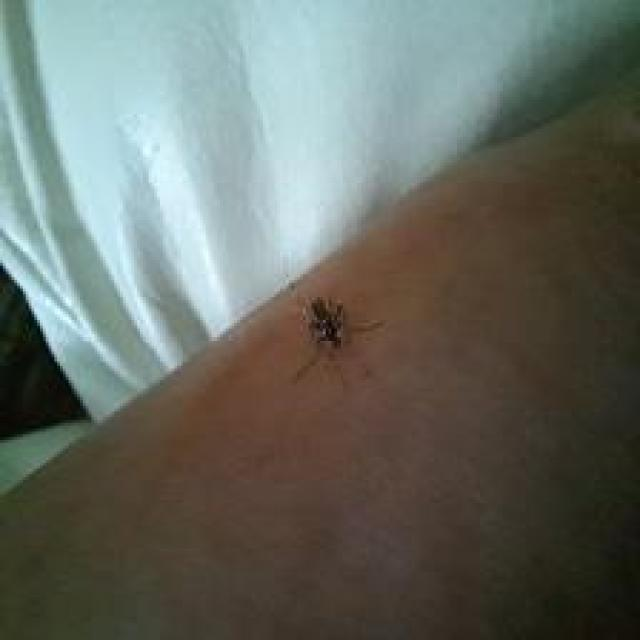Aedes albopictus: (290, 293, 384, 390)
